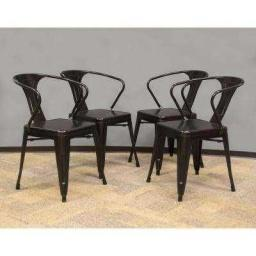Chair: (14, 74, 106, 198), (150, 77, 240, 201)
